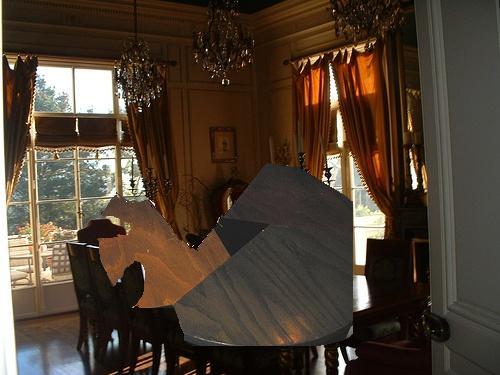tampered: (98, 164, 353, 346)
